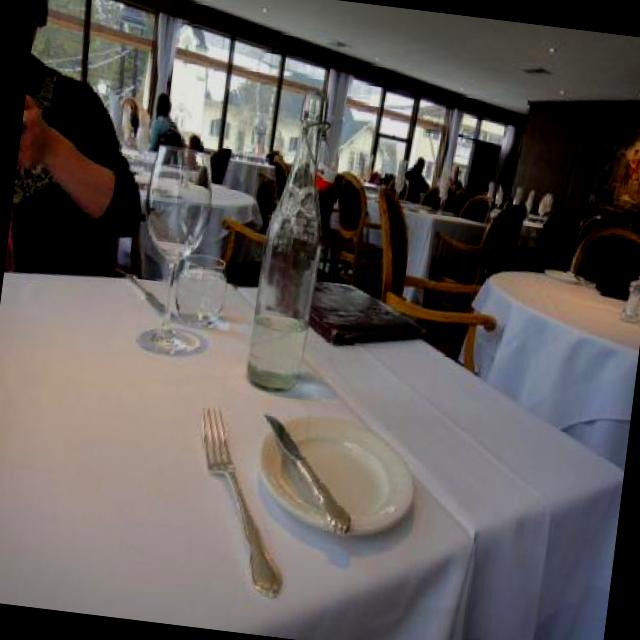Person: (4, 0, 165, 282), (148, 88, 183, 154), (400, 154, 433, 204), (116, 96, 142, 138), (445, 163, 466, 196), (184, 148, 201, 171), (187, 132, 206, 152)
